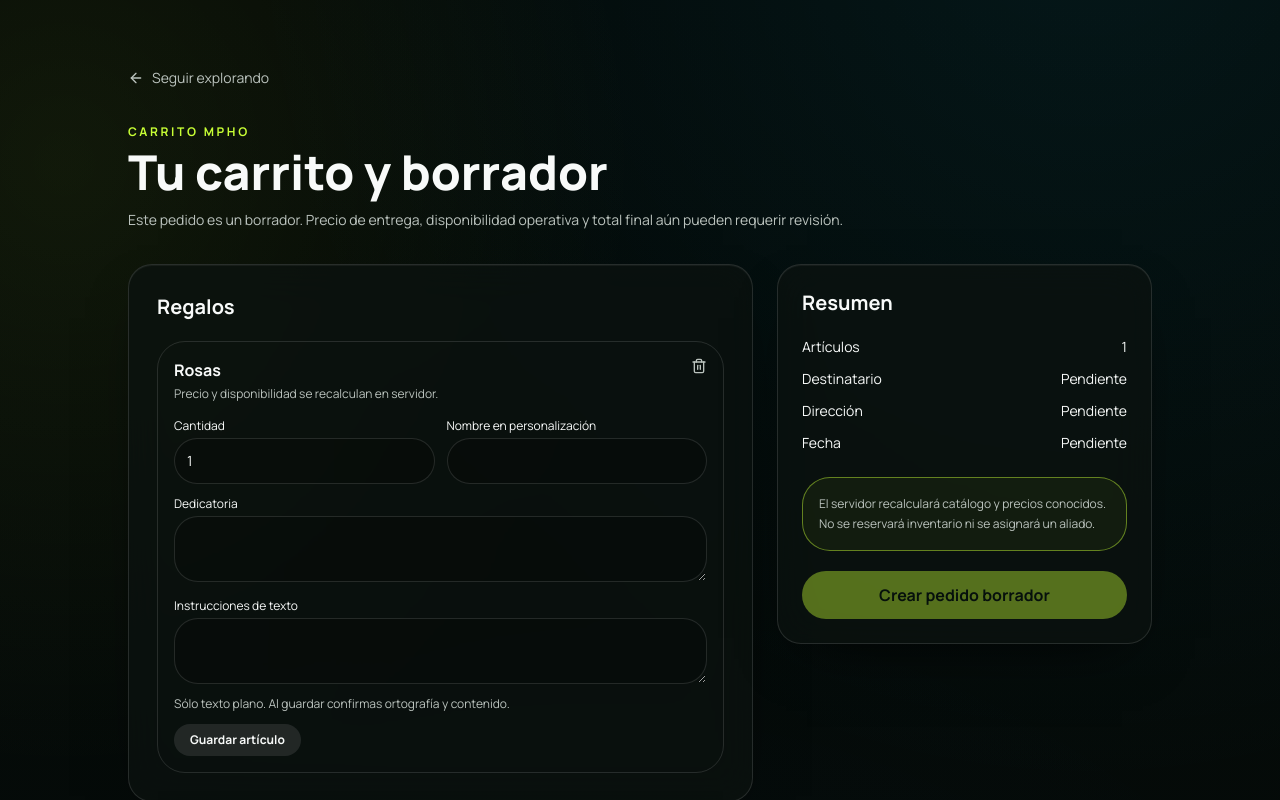
Test case: cart to draft customer flow › enforces the technical quantity range in the UI
The width and height of the screenshot is (1280, 800).
Replace the text in the number field labelled "Cantidad" with "21": [304, 461] box [174, 438, 434, 484]
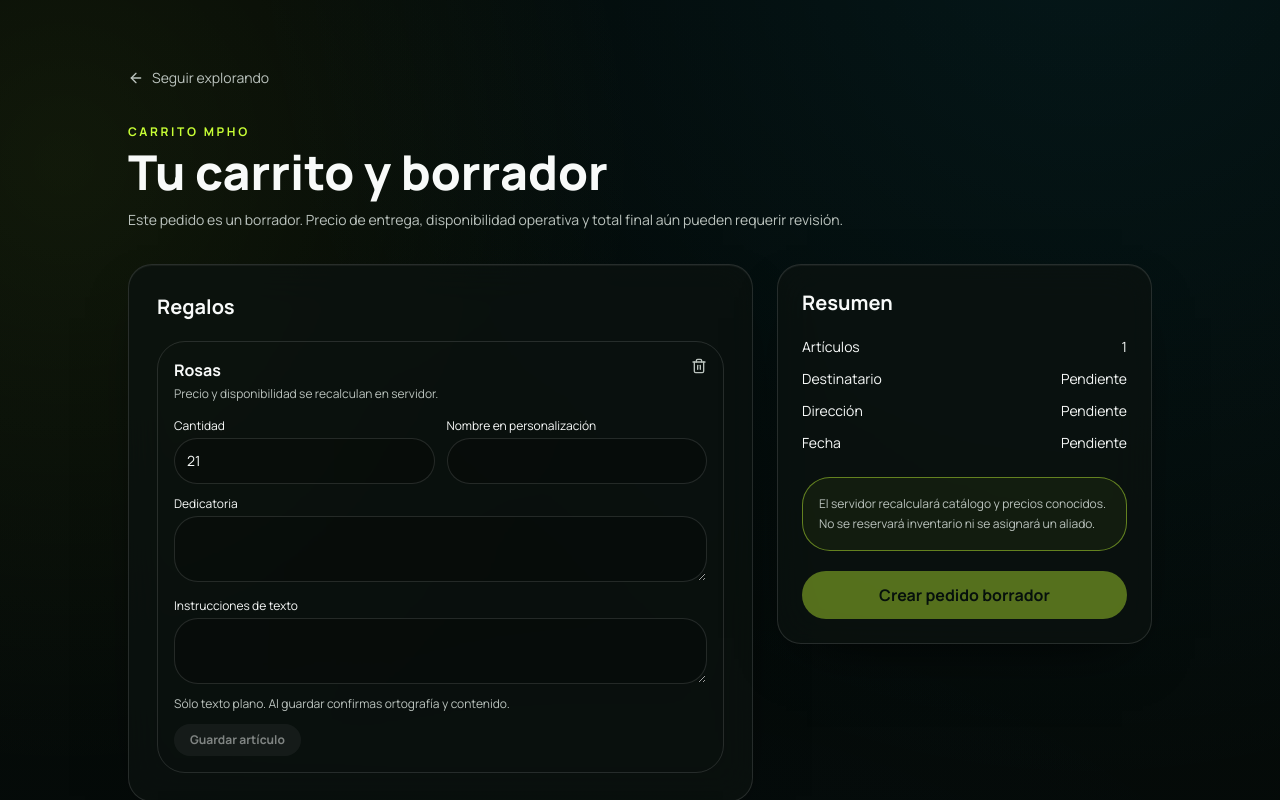
Now the button "Guardar artículo" is disabled, box [174, 724, 301, 756]
